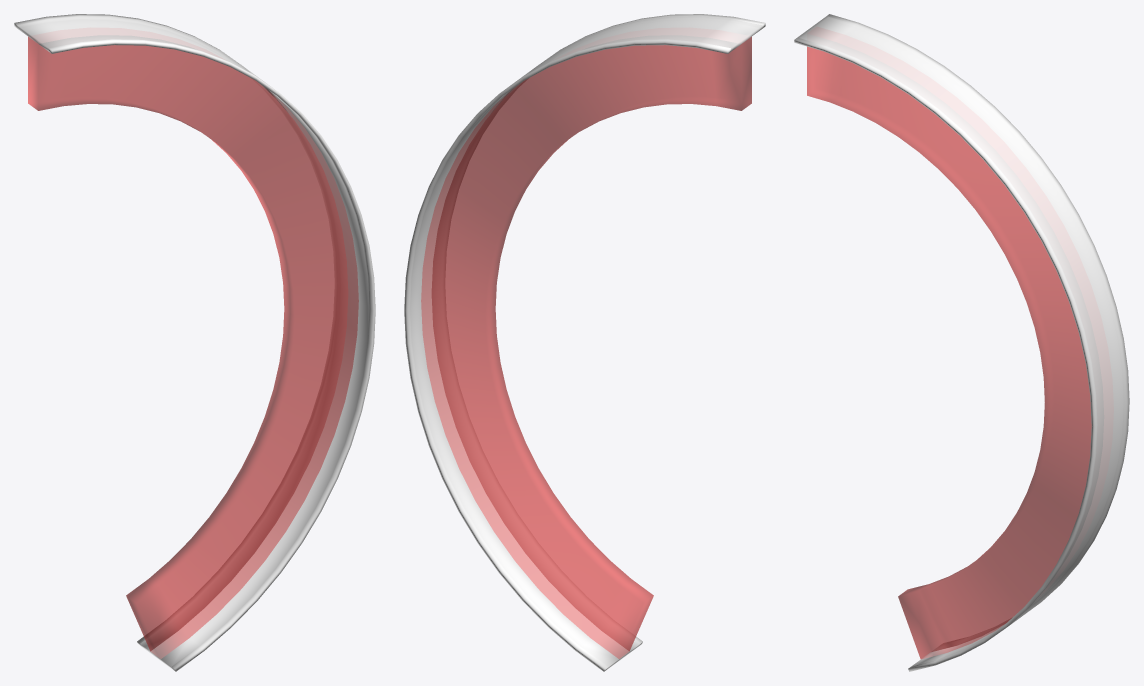
The model's file is FlickNote07.fbx.
3 views of the same model, side by side, from view 1: azimuth 30°, elevation 25°; view 2: azimuth 150°, elevation 25°; view 3: azimuth 330°, elevation 25° (orthographic). The views are drawn at different scales.
Visible parts, largest first — view 1: FlickNote07; view 2: FlickNote07; view 3: FlickNote07.
Part boxes in pixels (x1,y1,x2,y2): FlickNote07: [14, 14, 375, 671]; FlickNote07: [404, 14, 765, 671]; FlickNote07: [794, 14, 1129, 671].
Size of the model in its own units: 99.05 by 20 by 190.
